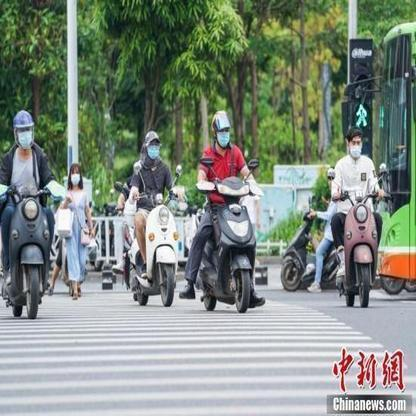target: (188, 109, 271, 316), (3, 109, 59, 318)
